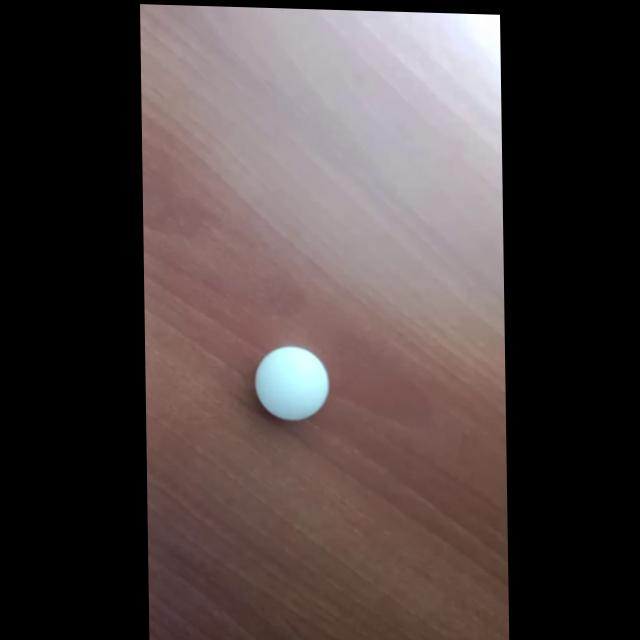white ball: (253, 344, 330, 423)
